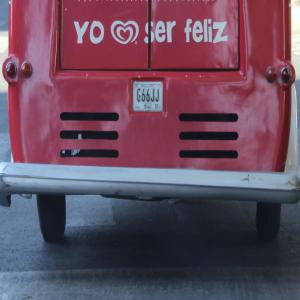Vehicle-registration-plate: (136, 79, 165, 111)
